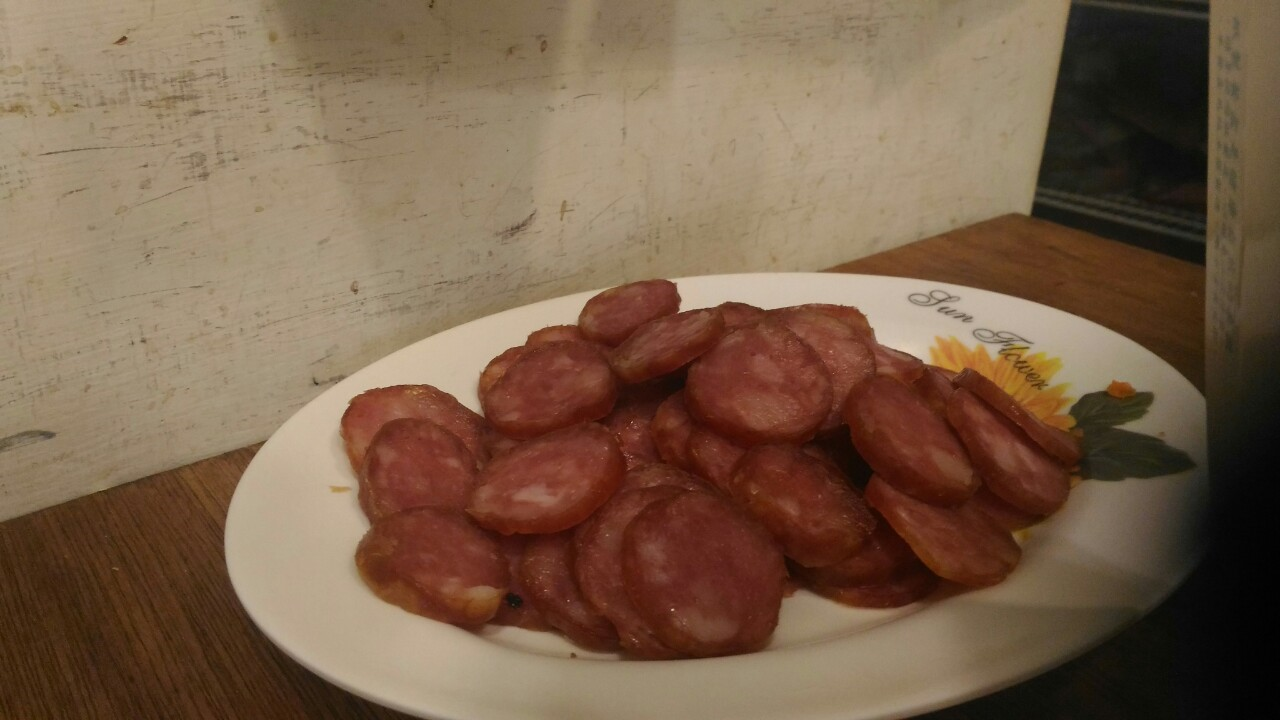chinese_sausage: (339, 278, 1077, 657)
